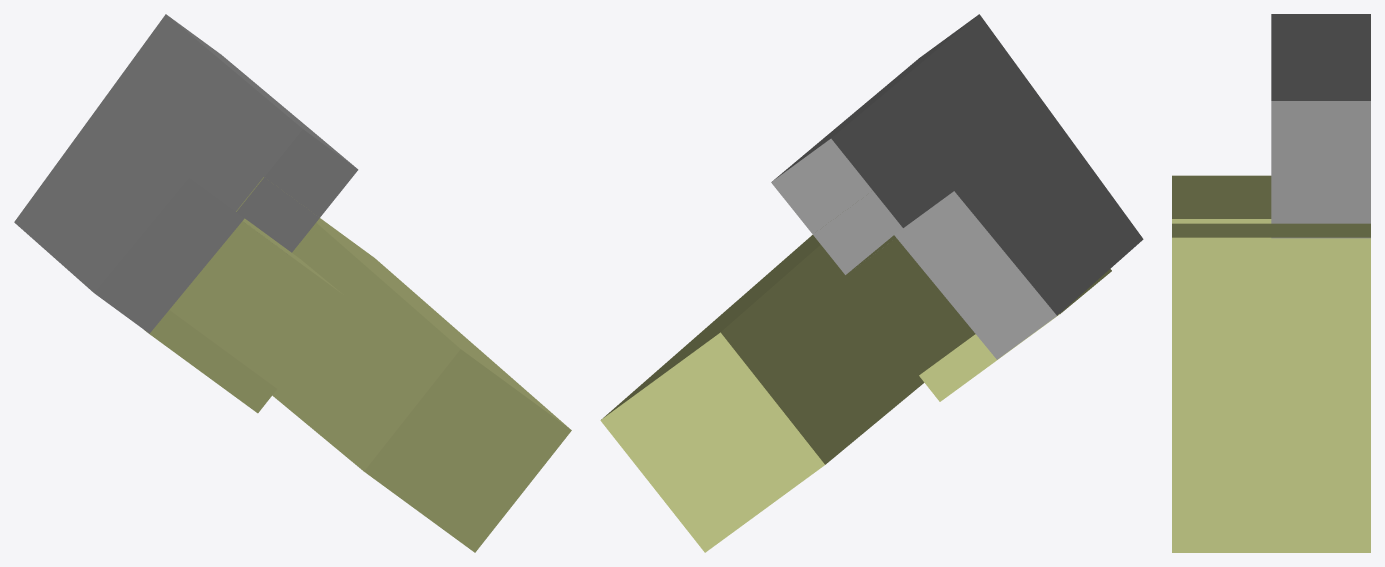
3 renders of one model, left to right at view 1: azimuth 30°, elevation 25°; view 2: azimuth 150°, elevation 25°; view 3: azimuth 270°, elevation 25°, orthographic. The views are drawn at different scales.
Visible parts, largest first — view 1: 0_1_0_0_1_0_3_0_0_3; view 2: 0_1_0_0_1_0_3_0_0_3; view 3: 0_1_0_0_1_0_3_0_0_3.
Boxes of the visible parts, left/top/right/bottom form: 0_1_0_0_1_0_3_0_0_3: left=14, top=14, right=571, bottom=552; 0_1_0_0_1_0_3_0_0_3: left=600, top=14, right=1143, bottom=552; 0_1_0_0_1_0_3_0_0_3: left=1172, top=14, right=1370, bottom=552.
Size of the model in its own units: 13.92 by 15.07 by 6.
